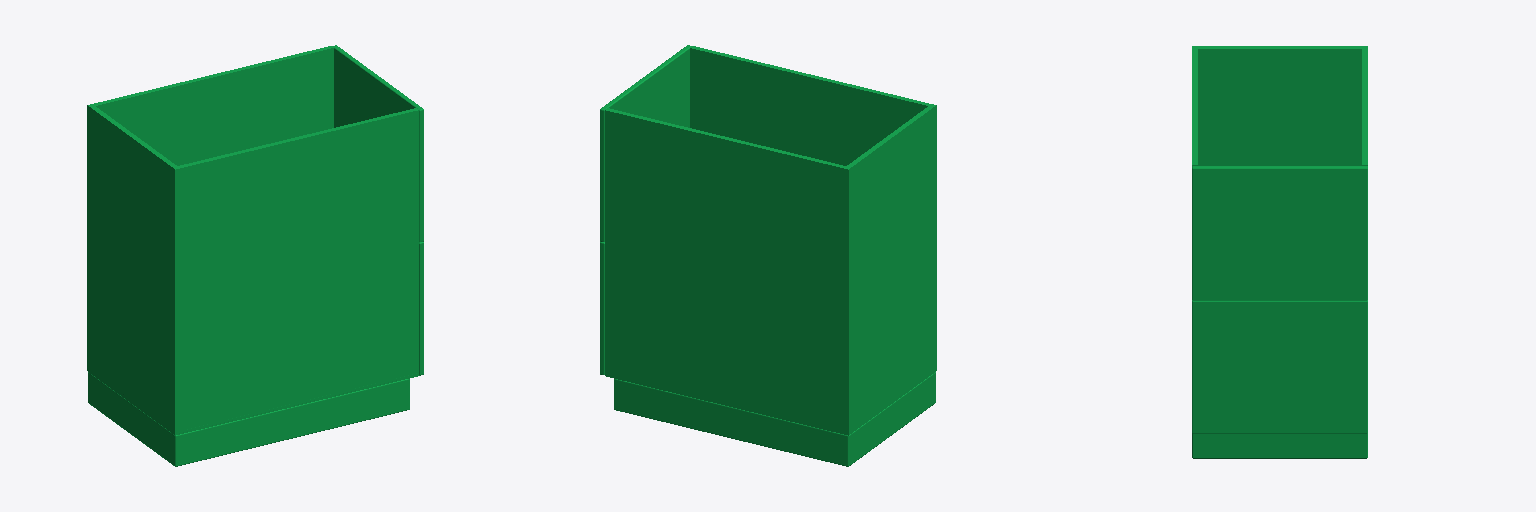
The picture shows the model from 3 angles: view 1: azimuth 30°, elevation 25°; view 2: azimuth 150°, elevation 25°; view 3: azimuth 270°, elevation 25°; orthographic projection.
Visible parts, largest first — view 1: body, shutter; view 2: body, shutter; view 3: shutter, body.
Boxes of the visible parts, <box> form: body: <box>87,46,418,466</box>; shutter: <box>333,45,423,375</box>; body: <box>605,46,936,466</box>; shutter: <box>600,45,690,374</box>; shutter: <box>1192,166,1367,433</box>; body: <box>1192,46,1367,458</box>.
Size of the model in its own units: 62.24 by 71.12 by 38.09.